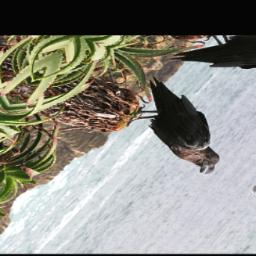Crow: (93, 74, 256, 180)
